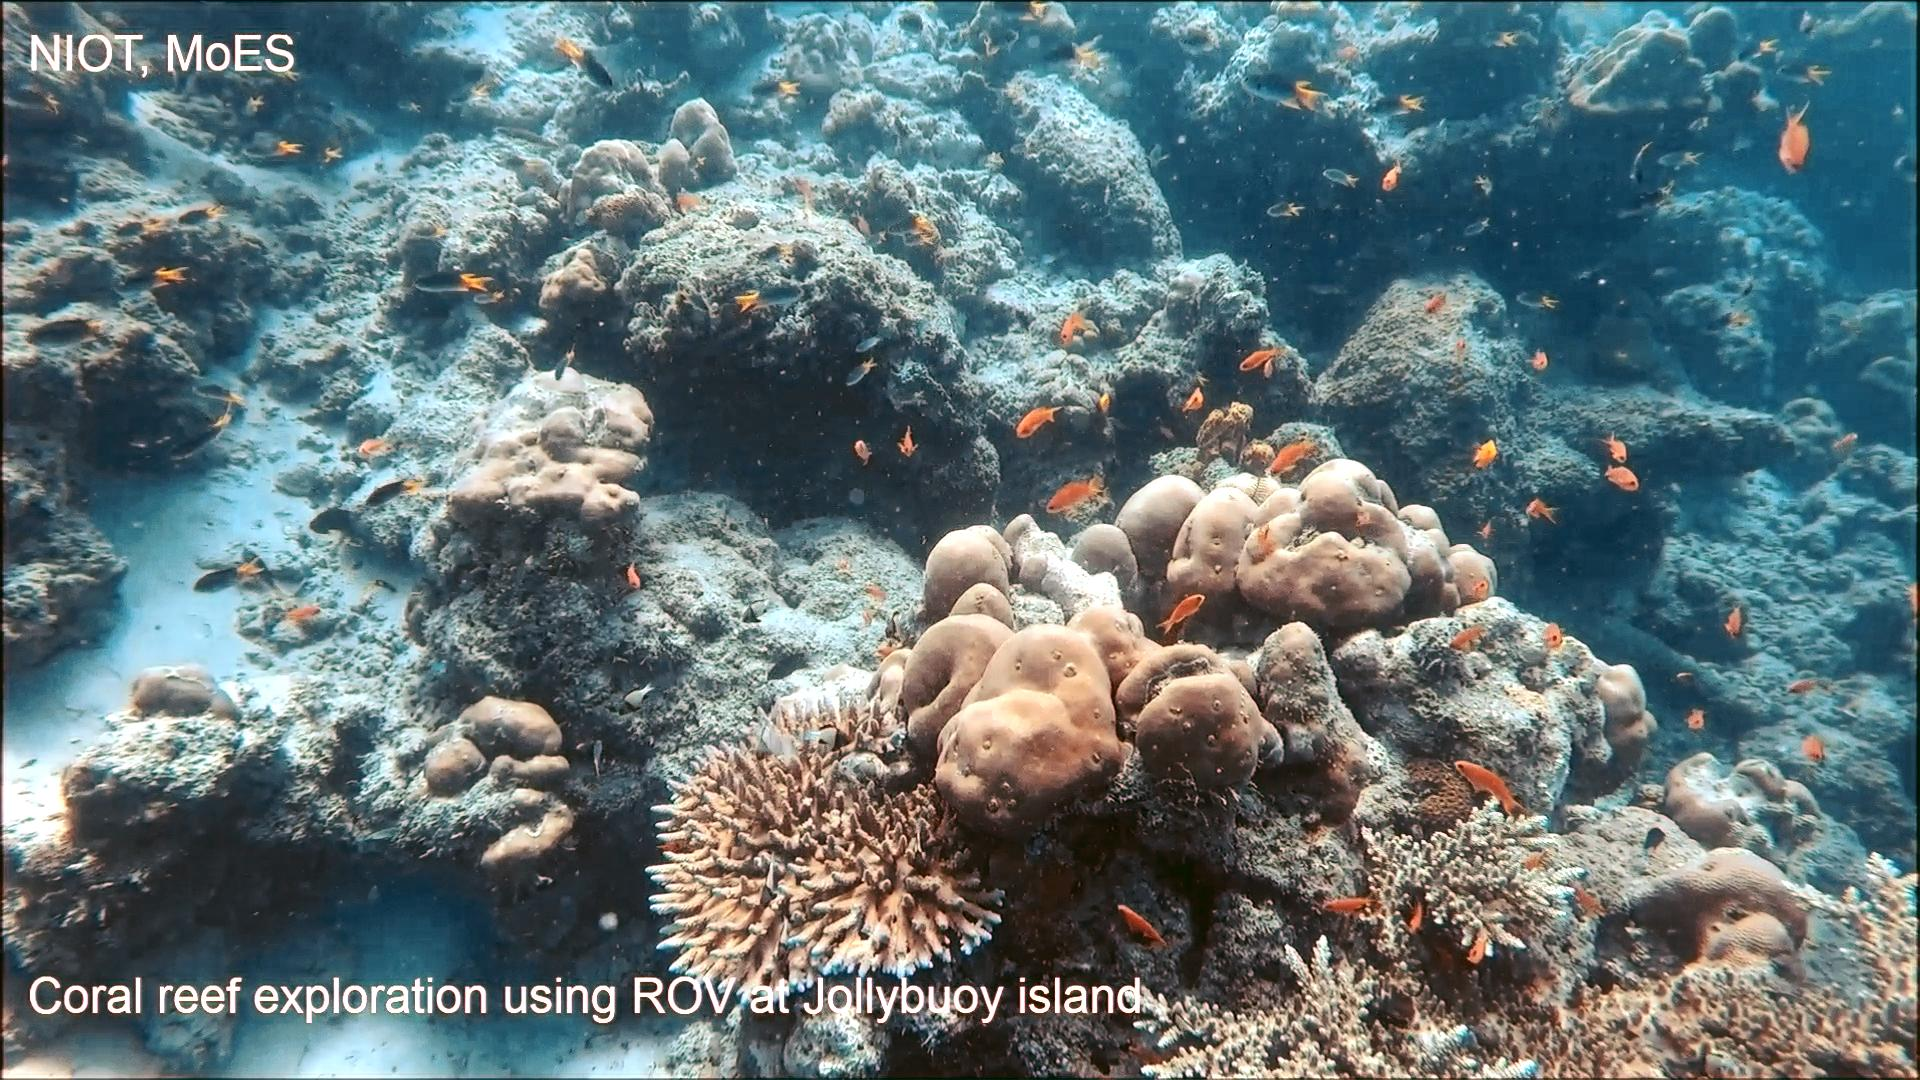Porites-Porites pukoensis: (870, 505, 1262, 843), (1106, 451, 1505, 629)
